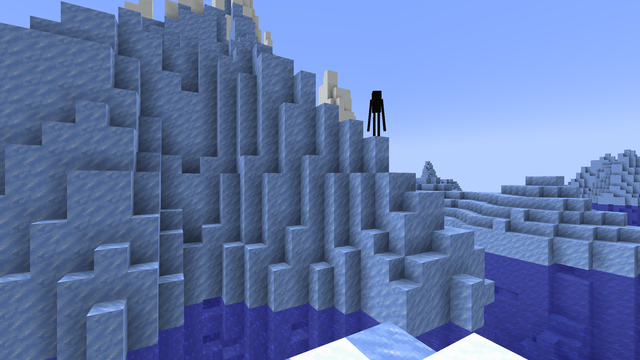endermens: (369, 88, 383, 128)
